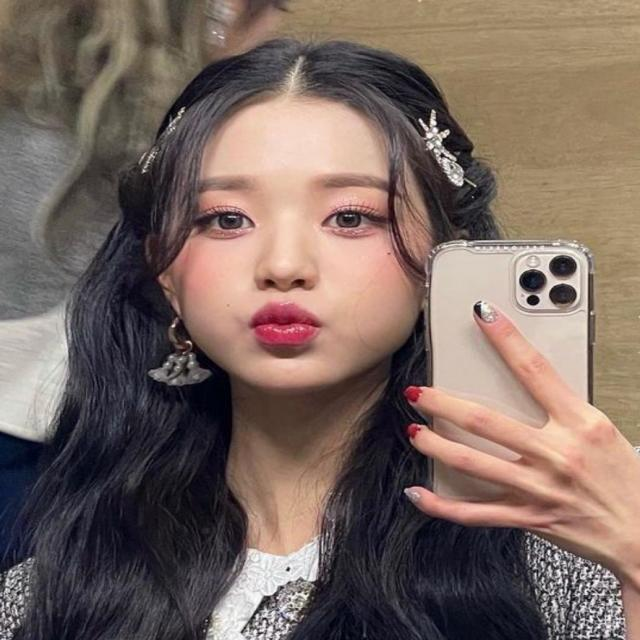phone: (427, 240, 594, 514)
